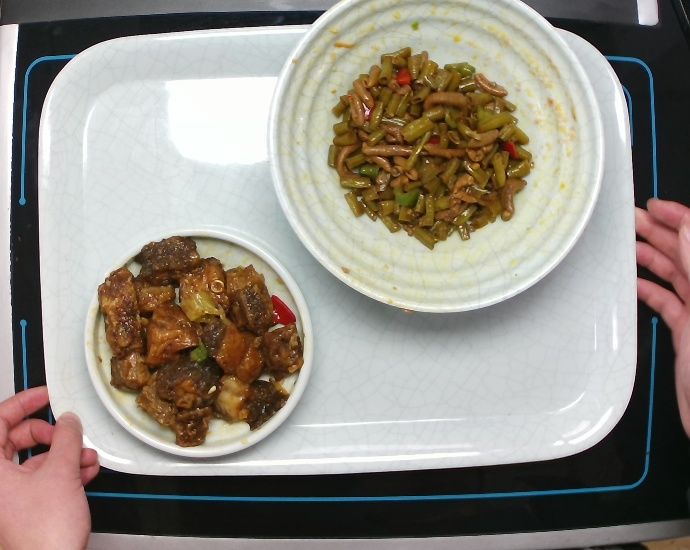JYsf-Da_Tang_Wan: (254, 4, 607, 322)
JYsf-Xiao_Yuan_Pan: (76, 226, 320, 460)
